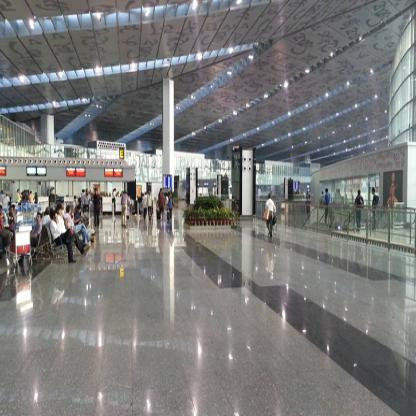airport-trolley: (6, 219, 36, 277)
